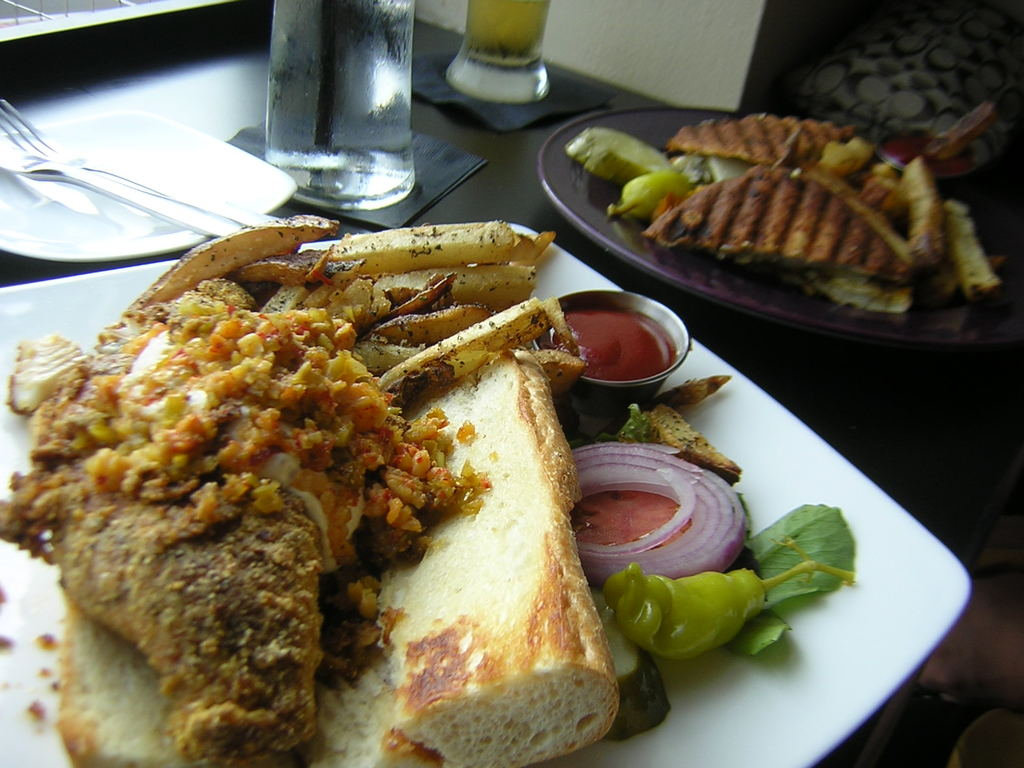sandwich: (57, 348, 625, 767)
